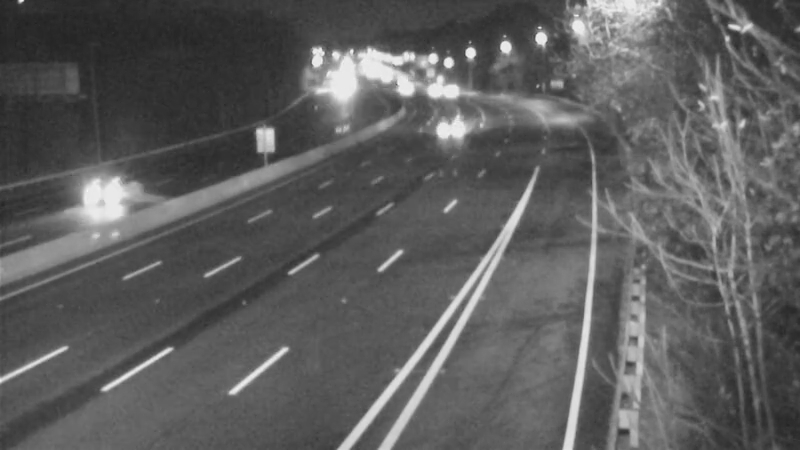vehicle: (55, 158, 135, 238), (433, 65, 483, 115), (419, 98, 469, 148)
